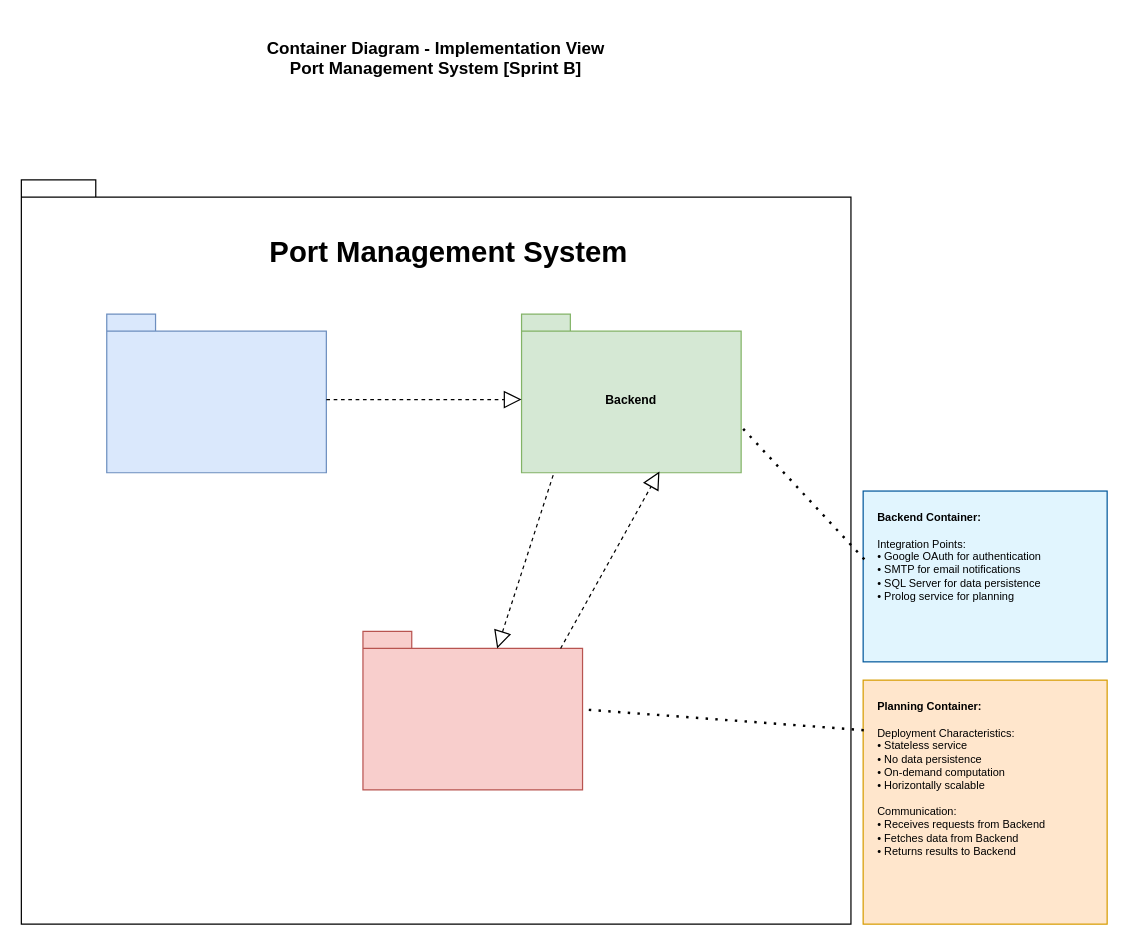
This 1129x946 diagram has some shape labels left out. Each missing label, with the centre of its shape:
Frontend: [216,393]
Planning Module: [472,710]
